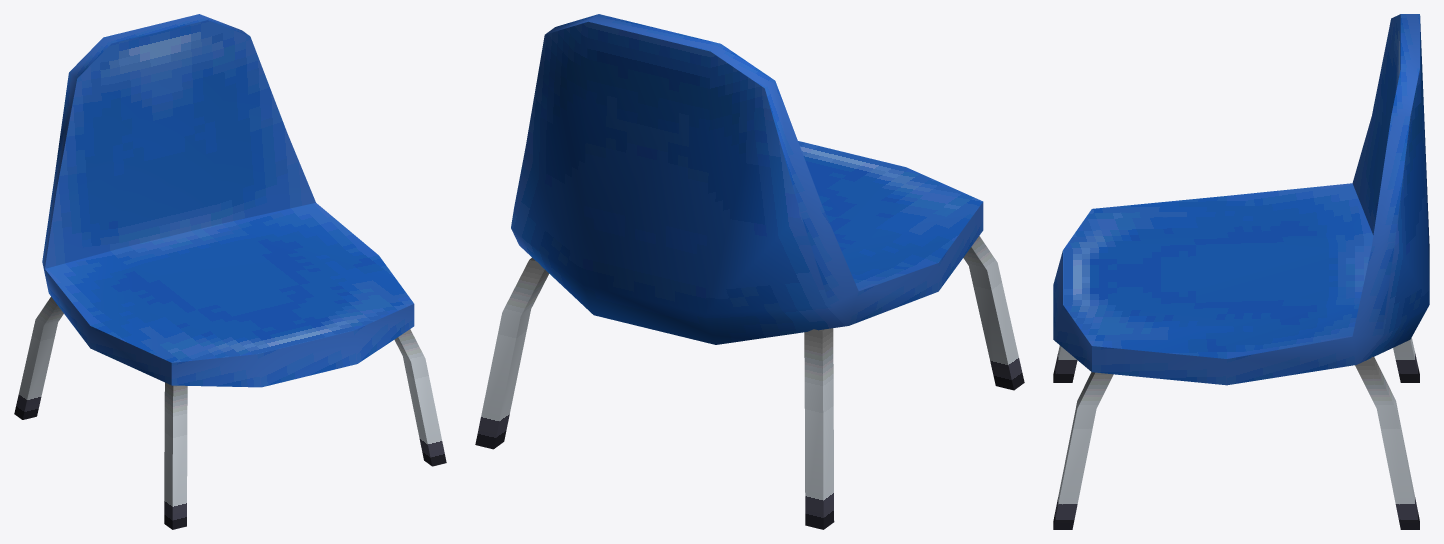
File: Blue Chair.obj
3 views of the same model, side by side, from view 1: azimuth 30°, elevation 25°; view 2: azimuth 150°, elevation 25°; view 3: azimuth 270°, elevation 25° (orthographic). The views are drawn at different scales.
Visible parts, largest first — view 1: polygon1, polygon2; view 2: polygon0, polygon1, polygon2; view 3: polygon1, polygon2, polygon0.
Boxes of the visible parts, bbox=[...] form: polygon1: bbox=[42, 14, 414, 387]; polygon2: bbox=[14, 297, 446, 529]; polygon0: bbox=[511, 21, 848, 344]; polygon1: bbox=[511, 14, 983, 325]; polygon2: bbox=[475, 236, 1024, 529]; polygon1: bbox=[1053, 14, 1419, 385]; polygon2: bbox=[1053, 337, 1419, 529]; polygon0: bbox=[1357, 16, 1429, 364].
Bounding box in the file's own units: 2 × 2.35 × 1.95.
Materials: 3 (3 with a texture image).
